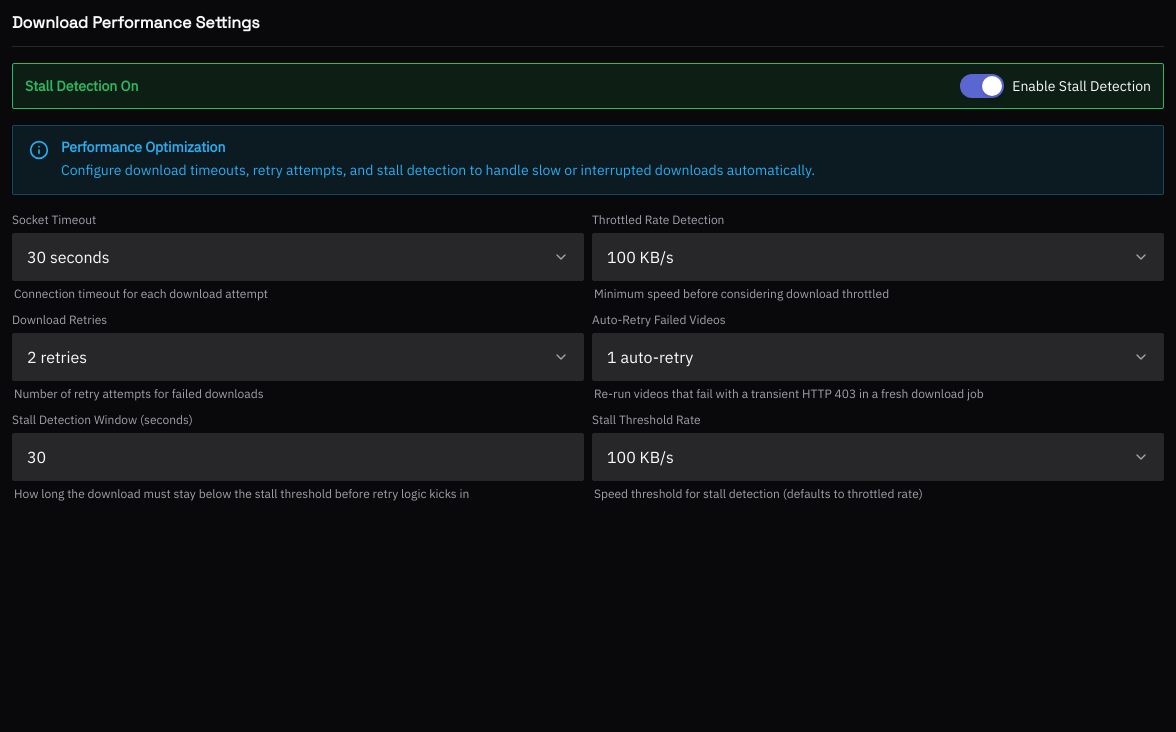
Scenario: DownloadPerformanceSection Component › Auto-Retry Failed Videos Select › displays all auto-retry options
What coordinates should you click on to do the following:
click the button "1 auto-retry"
I would click on:
 (650, 357)
Its box is [592,333,1164,381].
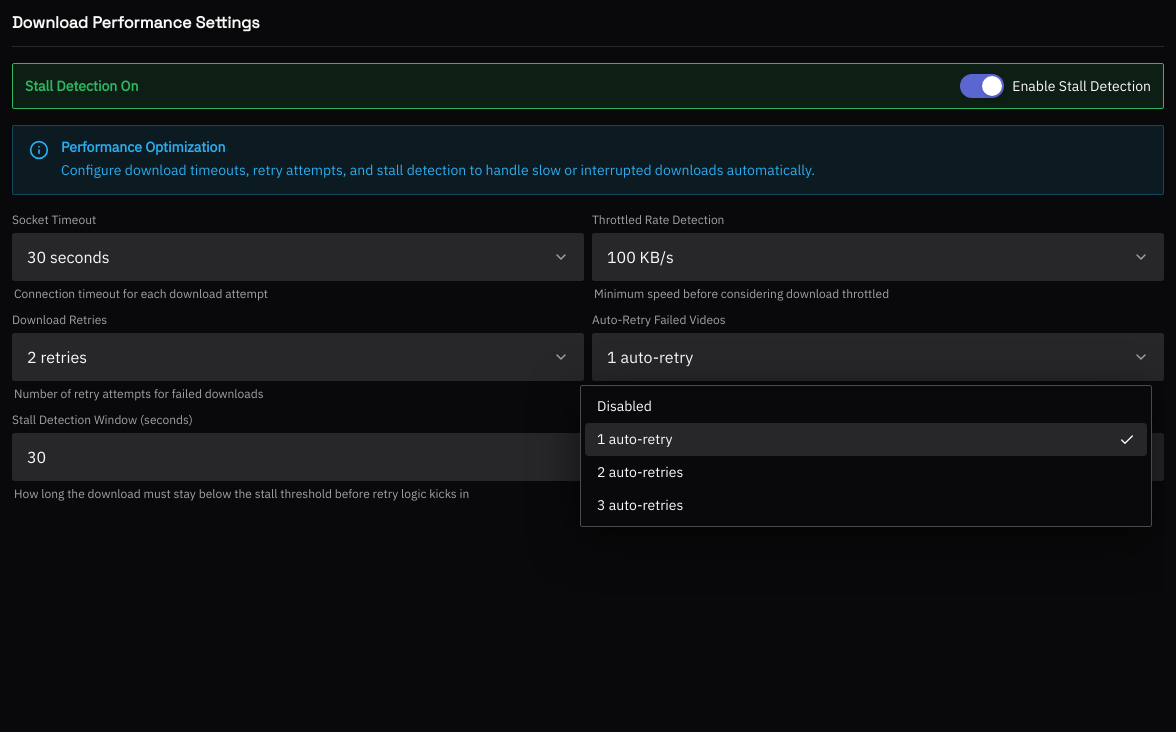
Check: the option "Disabled" is shown, box [597,397,652,415]
Check: the option "1 auto-retry" is shown, box [585,423,1147,456]
Check: the option "2 auto-retries" is shown, box [597,463,683,481]
